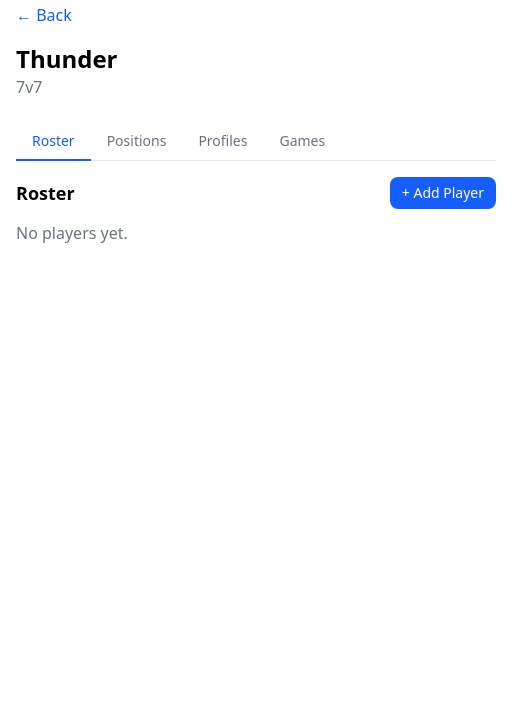
Test: TeamDetail › positions tab › shows field view with slots when Field is clicked
The width and height of the screenshot is (513, 707).
Expected: the heading "Thunder" is shown, [16, 42, 118, 75]
Click the tab "Positions" at [136, 142], box [91, 123, 182, 161]
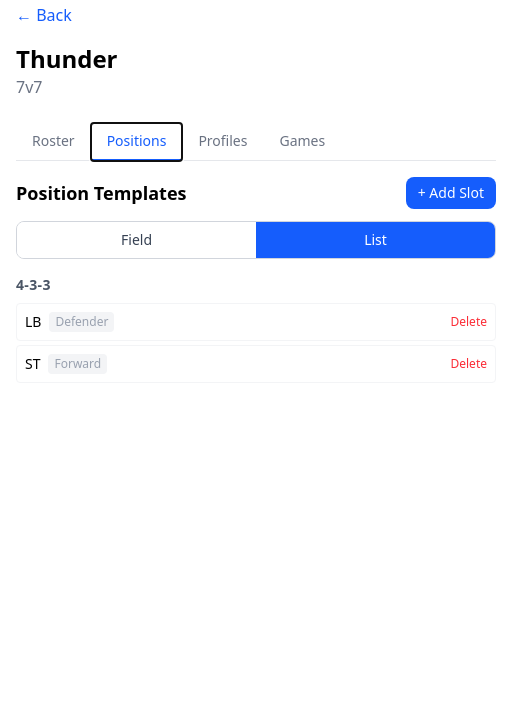
Expected: the button "Field" is shown
Click the button "Field" at [136, 240], box [17, 222, 256, 258]
(page scrolled)
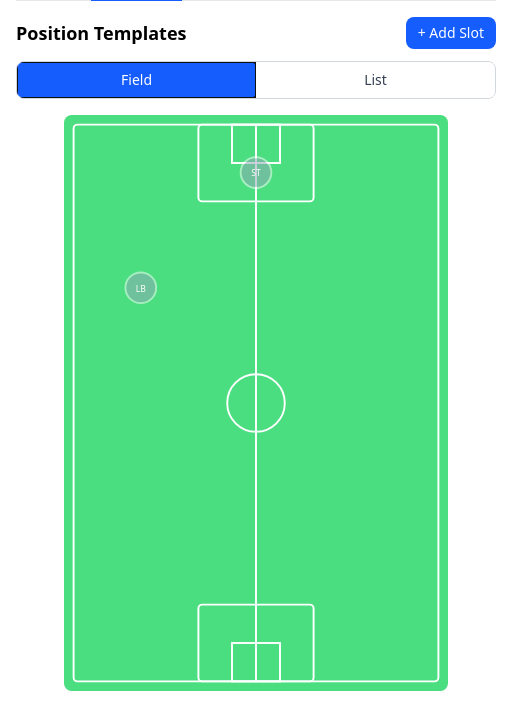
Expected: the picture named "soccer field" is shown
